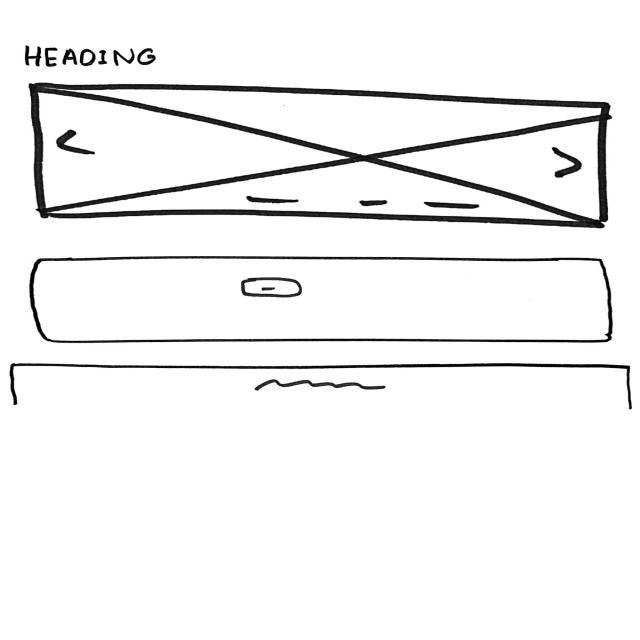container: (31, 255, 615, 343)
icon-button: (238, 276, 305, 298)
image: (27, 82, 610, 230)
label: (22, 44, 159, 66)
text: (255, 378, 388, 394)
